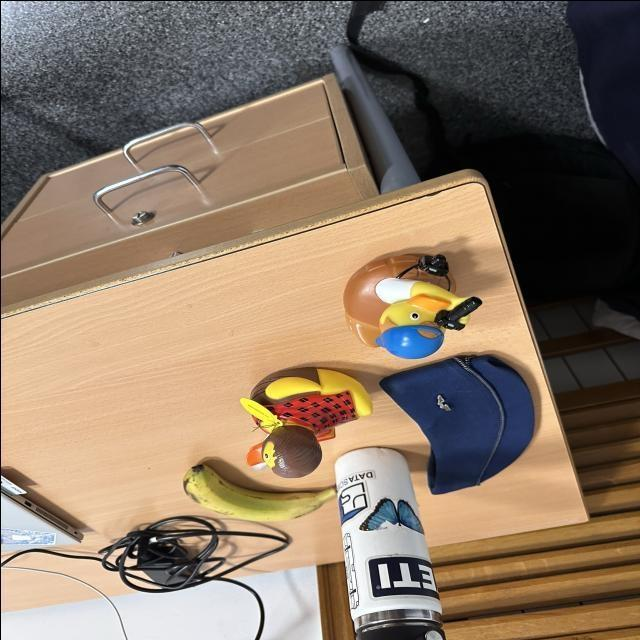rubber-duck: (239, 366, 370, 476), (343, 253, 480, 357)
